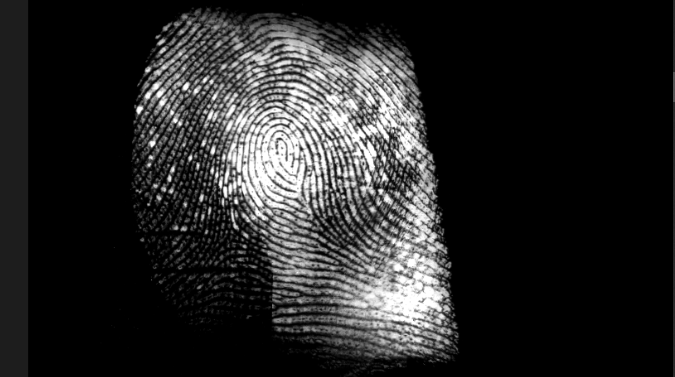nucelo: (262, 127, 295, 177)
verticilo: (214, 215, 245, 239), (289, 183, 313, 209)
